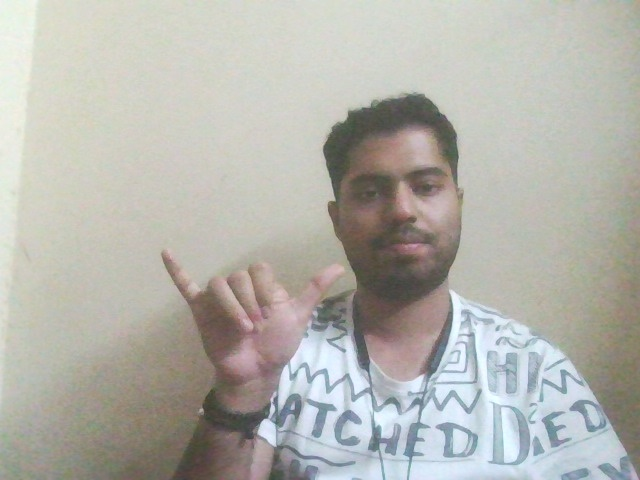Please: (136, 234, 362, 384)
